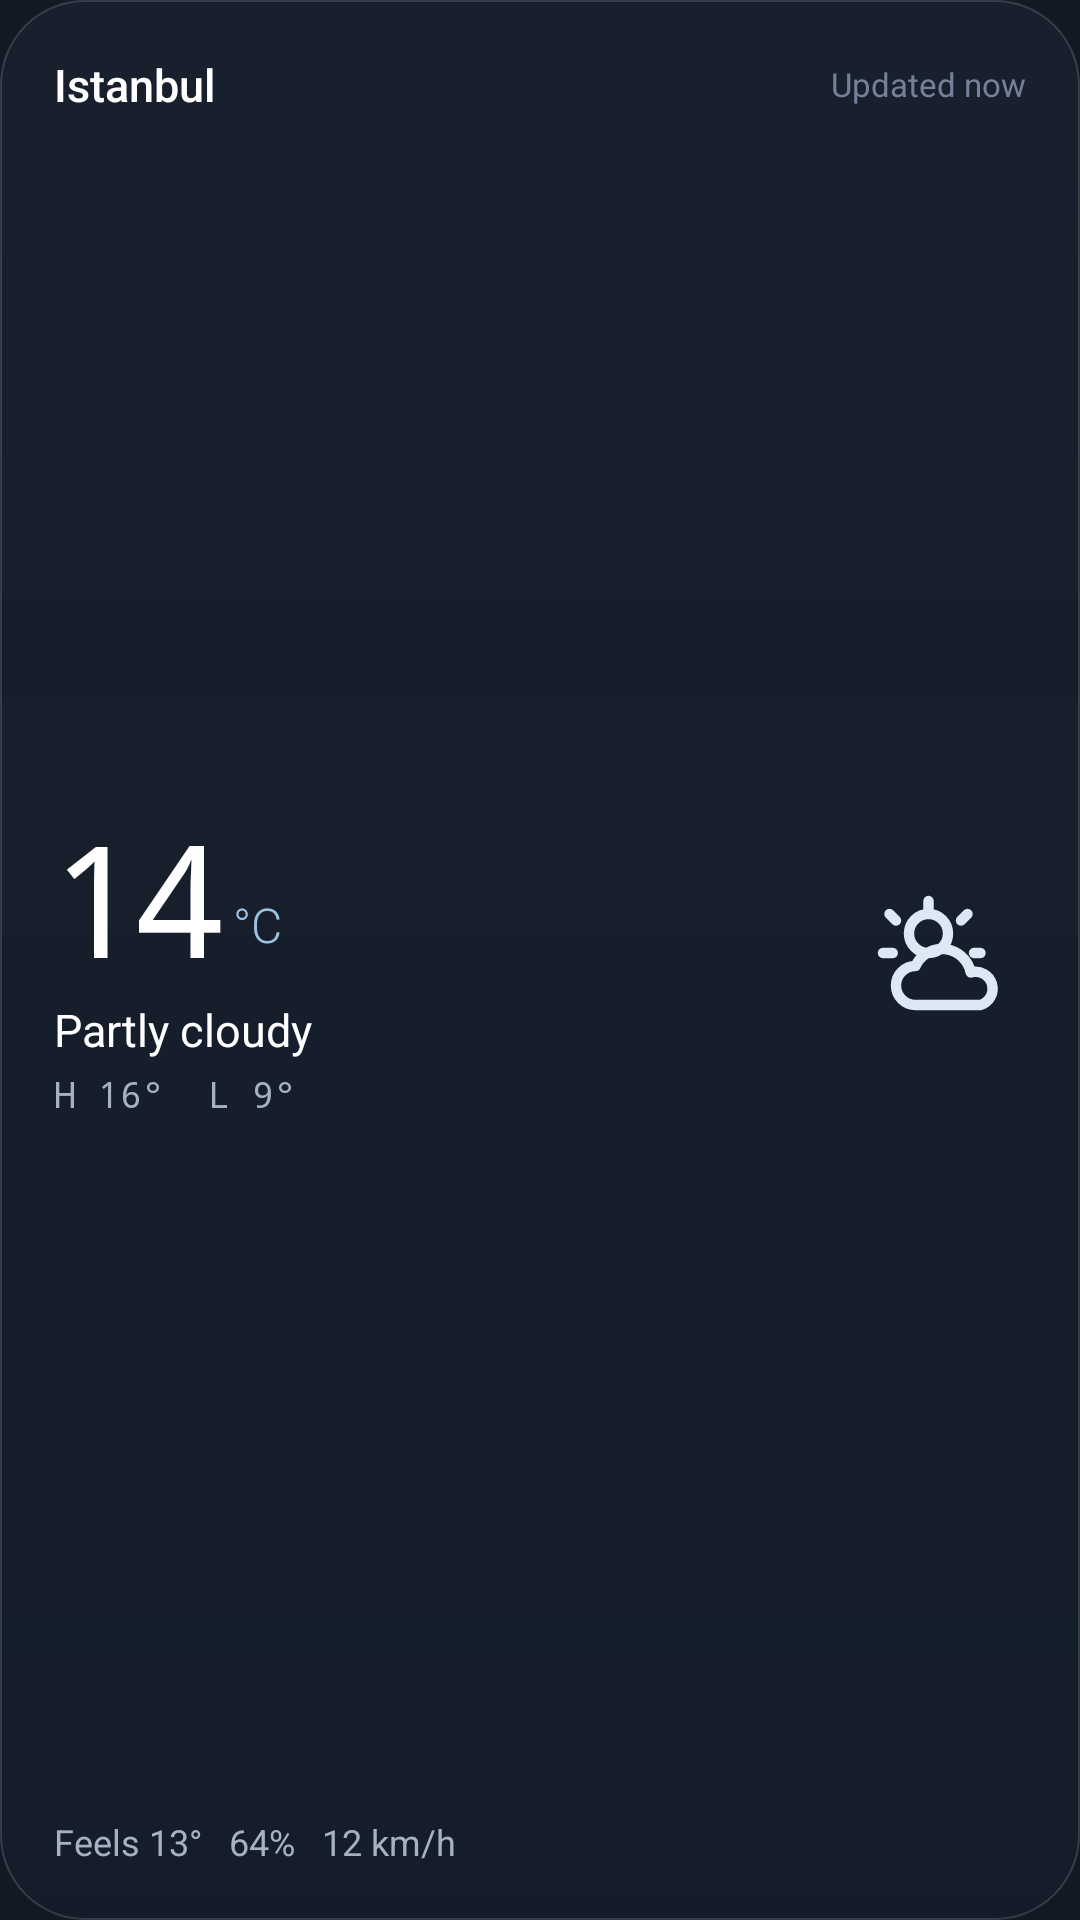

Where icons sit on this 1080px x 1920px app screen, as (x1, y1, x2, y2):
Condition: (877, 895, 998, 1011)
